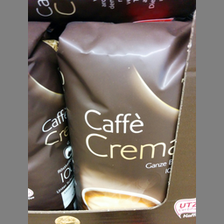coffee: (58, 19, 190, 212)
